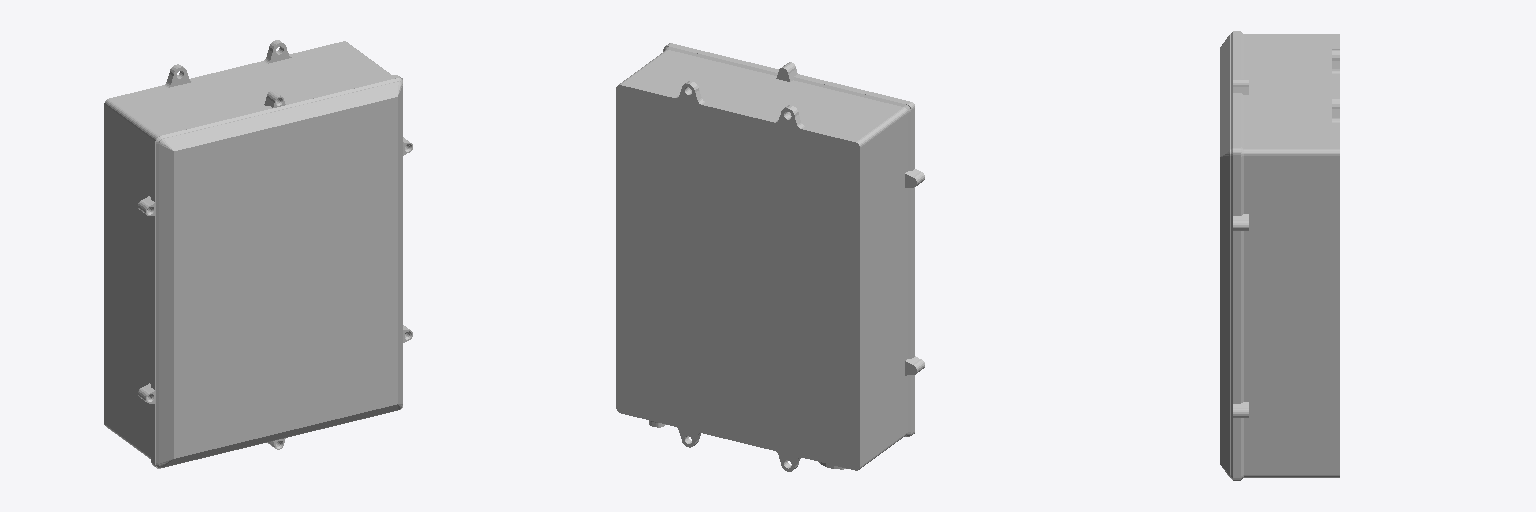
File: teste.obj
The picture shows the model from 3 angles: view 1: azimuth 30°, elevation 25°; view 2: azimuth 150°, elevation 25°; view 3: azimuth 270°, elevation 25°; orthographic projection.
Parts seen in each view (by area): view 1: b_Tampa_001_, b_Caixa_001_; view 2: b_Caixa_001_, b_Tampa_001_; view 3: b_Caixa_001_, b_Tampa_001_.
Boxes of the visible parts, x1,y1,x2,y2 form: b_Tampa_001_: [144, 76, 412, 468]; b_Caixa_001_: [104, 40, 409, 466]; b_Caixa_001_: [616, 44, 923, 471]; b_Tampa_001_: [669, 43, 924, 433]; b_Caixa_001_: [1236, 31, 1339, 480]; b_Tampa_001_: [1220, 31, 1235, 480].
Bounding box in the file's own units: 191 × 248 × 74.